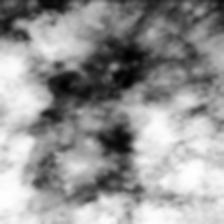Potentially Malignant Skin Tumors: (23, 32, 212, 214)
